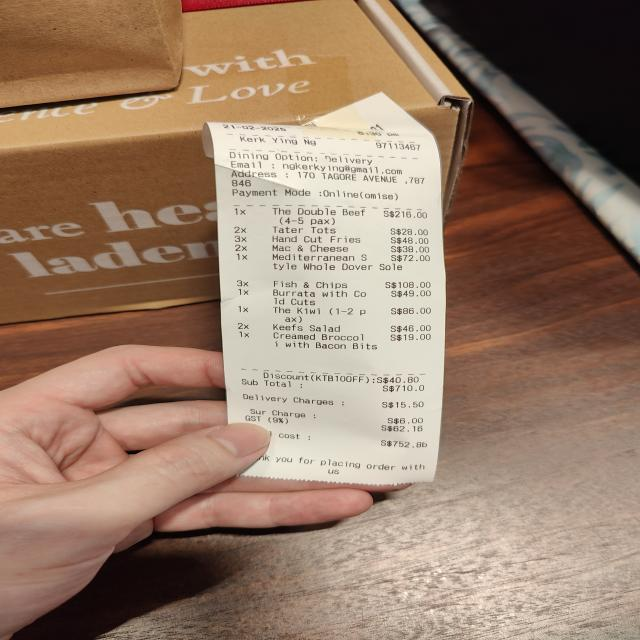bill_region: (222, 200, 440, 453)
